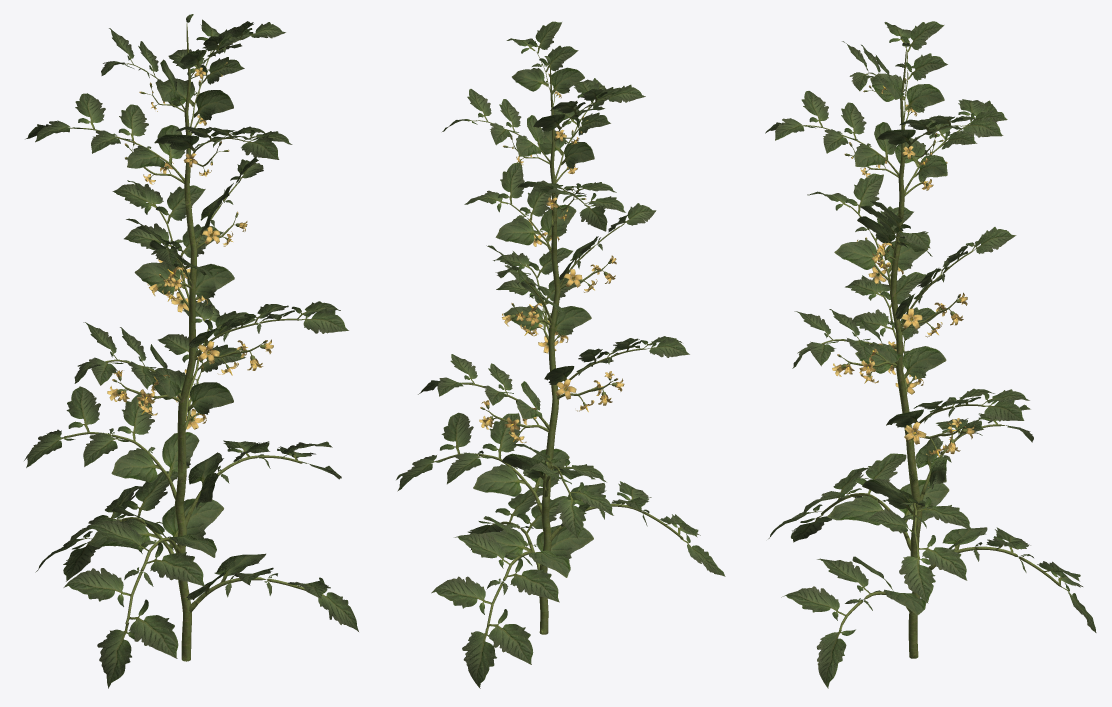
Rendered from tomato23.dae.
3 renders of one model, left to right at view 1: azimuth 30°, elevation 25°; view 2: azimuth 150°, elevation 25°; view 3: azimuth 270°, elevation 25°, orthographic. The views are drawn at different scales.
Parts seen in each view (by area): view 1: Leaf2, Leaf1, Branch1, Blossom1, Blossom3; view 2: Leaf2, Leaf1, Branch1, Blossom1; view 3: Leaf2, Leaf1, Branch1, Blossom1.
Boxes of the visible parts, left/top/right/bottom form: Leaf2: left=24, top=19, right=358, bottom=688; Leaf1: left=87, top=14, right=265, bottom=600; Branch1: left=63, top=23, right=305, bottom=661; Blossom1: left=107, top=62, right=273, bottom=429; Blossom3: left=113, top=63, right=267, bottom=422; Leaf2: left=396, top=21, right=725, bottom=688; Leaf1: left=473, top=56, right=613, bottom=577; Branch1: left=438, top=50, right=683, bottom=634; Blossom1: left=479, top=73, right=624, bottom=442; Leaf2: left=765, top=21, right=1096, bottom=688; Leaf1: left=827, top=42, right=987, bottom=615; Branch1: left=806, top=47, right=1061, bottom=658; Blossom1: left=832, top=78, right=974, bottom=455.
Bounding box in the file's own units: 0.7463 × 0.7257 × 1.48.
